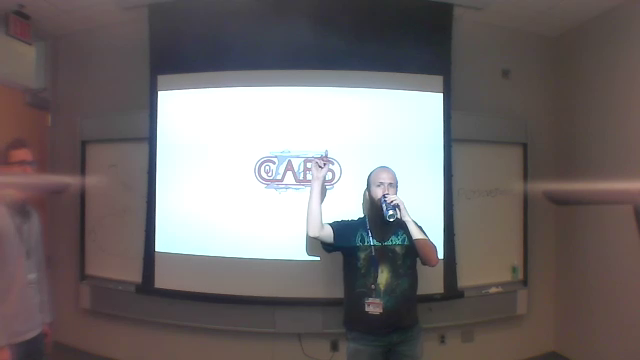up: (307, 147, 330, 179)
